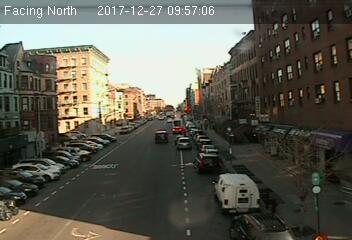car: (229, 205, 295, 240), (193, 152, 222, 172), (153, 130, 169, 144), (176, 137, 191, 150)
truck: (209, 170, 259, 210)
